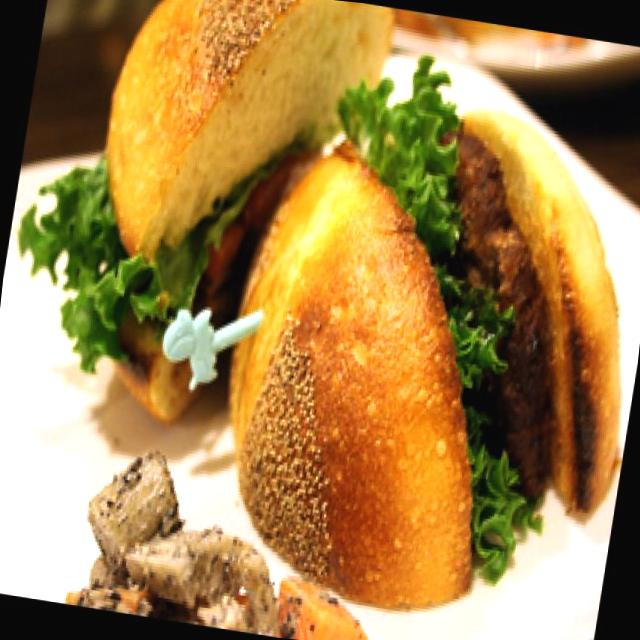Hamburger: (15, 0, 378, 438)
